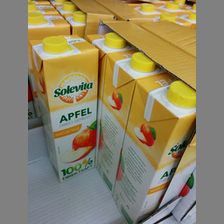juice: (111, 71, 197, 223), (29, 34, 100, 184)
